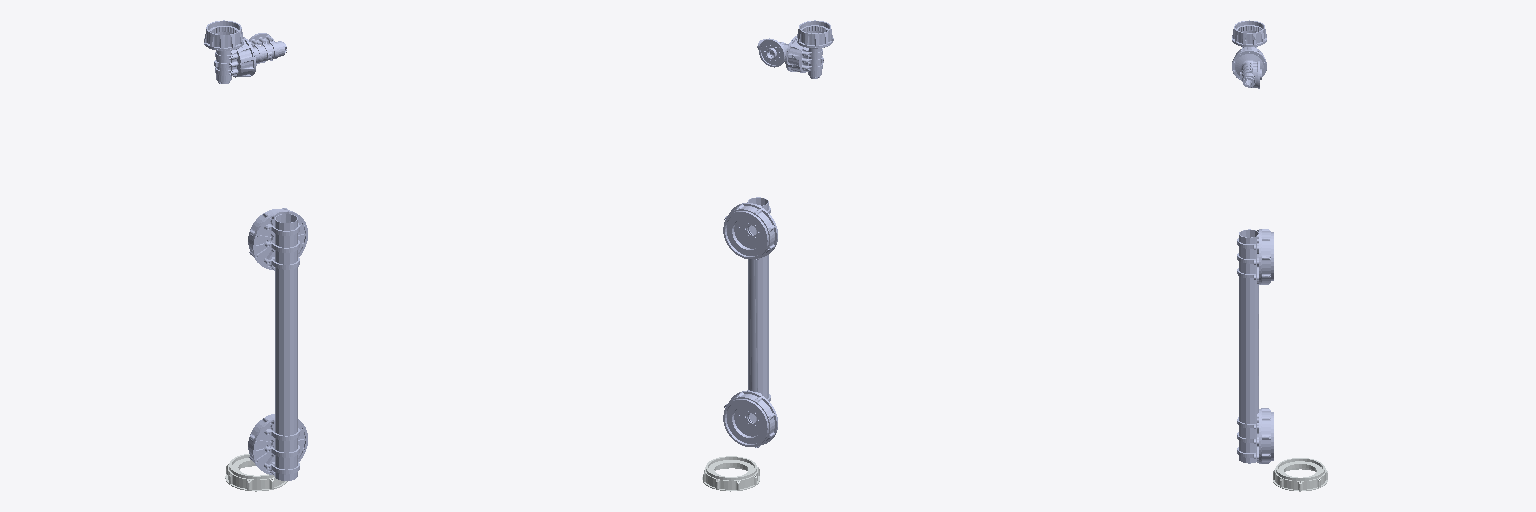
robot.urdf — arm_urdf_attempt_1:
<?xml version="1.0" encoding="utf-8"?>
<!-- This URDF was automatically created by SolidWorks to URDF Exporter! Originally created by [author] ([email redacted]) 
     Commit Version: 1.6.0-4-g7f85cfe  Build Version: 1.6.7995.38578
     For more information, please see http://wiki.ros.org/sw_urdf_exporter -->
<robot
  name="arm_urdf_attempt_1">
  <link
    name="base_link">
    <inertial>
      <origin
        xyz="-2.15105711021124E-16 4.16333634234434E-17 0.0236699430726066"
        rpy="0 0 0" />
      <mass
        value="0.303577466401528" />
      <inertia
        ixx="0.000487283345605958"
        ixy="-4.0604328814282E-18"
        ixz="-2.49902423019563E-19"
        iyy="0.000487283345605958"
        iyz="-4.11872843731475E-19"
        izz="0.000943263997918369" />
    </inertial>
    <visual>
      <origin
        xyz="0 0 0"
        rpy="0 0 0" />
      <geometry>
        <mesh
          filename="package://arm_urdf_attempt_1/meshes/base_link.STL" />
      </geometry>
      <material
        name="">
        <color
          rgba="0.898039215686275 0.917647058823529 0.929411764705882 1" />
      </material>
    </visual>
    <collision>
      <origin
        xyz="0 0 0"
        rpy="0 0 0" />
      <geometry>
        <mesh
          filename="package://arm_urdf_attempt_1/meshes/base_link.STL" />
      </geometry>
    </collision>
  </link>
  <link
    name="shoulder_link">
    <inertial>
      <origin
        xyz="-0.00108589432988627 0.00104453818881597 -0.0115032054388252"
        rpy="0 0 0" />
      <mass
        value="0.578300307697333" />
      <inertia
        ixx="0.000457491664954998"
        ixy="4.40695079130614E-08"
        ixz="-5.24944352494752E-07"
        iyy="0.000466714143740786"
        iyz="-3.9888872616818E-05"
        izz="0.000492278897171974" />
    </inertial>
    <visual>
      <origin
        xyz="0 0 0"
        rpy="0 0 0" />
      <geometry>
        <mesh
          filename="package://arm_urdf_attempt_1/meshes/shoulder_link.STL" />
      </geometry>
      <material
        name="">
        <color
          rgba="0.792156862745098 0.819607843137255 0.933333333333333 1" />
      </material>
    </visual>
    <collision>
      <origin
        xyz="0 0 0"
        rpy="0 0 0" />
      <geometry>
        <mesh
          filename="package://arm_urdf_attempt_1/meshes/shoulder_link.STL" />
      </geometry>
    </collision>
  </link>
  <joint
    name="base-rotation"
    type="continuous">
    <origin
      xyz="0 0 0.1238"
      rpy="1.5708 0 0" />
    <parent
      link="base_link" />
    <child
      link="shoulder_link" />
    <axis
      xyz="0 1 0" />
  </joint>
  <link
    name="upper_arm_link">
    <inertial>
      <origin
        xyz="-0.242503153942016 -5.77669424302318E-07 -0.0253615987772052"
        rpy="0 0 0" />
      <mass
        value="0.514292774377408" />
      <inertia
        ixx="0.000595642413199703"
        ixy="1.22950190154906E-08"
        ixz="-5.13167613690387E-08"
        iyy="0.00505803319818708"
        iyz="-1.22192589471583E-08"
        izz="0.00552655986550431" />
    </inertial>
    <visual>
      <origin
        xyz="0 0 0"
        rpy="0 0 0" />
      <geometry>
        <mesh
          filename="package://arm_urdf_attempt_1/meshes/upper_arm_link.STL" />
      </geometry>
      <material
        name="">
        <color
          rgba="0.792156862745098 0.819607843137255 0.933333333333333 1" />
      </material>
    </visual>
    <collision>
      <origin
        xyz="0 0 0"
        rpy="0 0 0" />
      <geometry>
        <mesh
          filename="package://arm_urdf_attempt_1/meshes/upper_arm_link.STL" />
      </geometry>
    </collision>
  </link>
  <joint
    name="shoulder"
    type="continuous">
    <origin
      xyz="0 0.485 0.1258"
      rpy="0 0 1.5708" />
    <parent
      link="shoulder_link" />
    <child
      link="upper_arm_link" />
    <axis
      xyz="0 0 1" />
  </joint>
  <link
    name="fore_arm_link">
    <inertial>
      <origin
        xyz="-0.280503991164541 0.0290165992543888 -0.0307353704762849"
        rpy="0 0 0" />
      <mass
        value="0.878694547843131" />
      <inertia
        ixx="0.00111677818316444"
        ixy="-3.95763823988894E-08"
        ixz="3.11645354052697E-06"
        iyy="0.00322319211600831"
        iyz="0.000293141391325471"
        izz="0.00350482047067742" />
    </inertial>
    <visual>
      <origin
        xyz="0 0 0"
        rpy="0 0 0" />
      <geometry>
        <mesh
          filename="package://arm_urdf_attempt_1/meshes/fore_arm_link.STL" />
      </geometry>
      <material
        name="">
        <color
          rgba="0.792156862745098 0.819607843137255 0.933333333333333 1" />
      </material>
    </visual>
    <collision>
      <origin
        xyz="0 0 0"
        rpy="0 0 0" />
      <geometry>
        <mesh
          filename="package://arm_urdf_attempt_1/meshes/fore_arm_link.STL" />
      </geometry>
    </collision>
  </link>
  <joint
    name="elbow"
    type="continuous">
    <origin
      xyz="0.468 0.05103 -0.1004"
      rpy="-0.0069564 0 0" />
    <parent
      link="upper_arm_link" />
    <child
      link="fore_arm_link" />
    <axis
      xyz="0 0.0069564 -0.99998" />
  </joint>
  <link
    name="wrist_a_link">
    <inertial>
      <origin
        xyz="4.54063678101413E-06 0.00400994549583587 0.0309332485687411"
        rpy="0 0 0" />
      <mass
        value="0.13211366619723" />
      <inertia
        ixx="9.58431968283196E-05"
        ixy="7.56409048134941E-08"
        ixz="-4.74004957401875E-10"
        iyy="0.000105476440501887"
        iyz="2.20006728961237E-08"
        izz="9.54267891151975E-05" />
    </inertial>
    <visual>
      <origin
        xyz="0 0 0"
        rpy="0 0 0" />
      <geometry>
        <mesh
          filename="package://arm_urdf_attempt_1/meshes/wrist_a_link.STL" />
      </geometry>
      <material
        name="">
        <color
          rgba="0.792156862745098 0.819607843137255 0.933333333333333 1" />
      </material>
    </visual>
    <collision>
      <origin
        xyz="0 0 0"
        rpy="0 0 0" />
      <geometry>
        <mesh
          filename="package://arm_urdf_attempt_1/meshes/wrist_a_link.STL" />
      </geometry>
    </collision>
  </link>
  <joint
    name="j4"
    type="continuous">
    <origin
      xyz="0 0 0.10007"
      rpy="-1.5708 0 0" />
    <parent
      link="fore_arm_link" />
    <child
      link="wrist_a_link" />
    <axis
      xyz="0 1 0" />
  </joint>
  <link
    name="wrist_b_link">
    <inertial>
      <origin
        xyz="4.54060680697352E-06 0.0040099453520431 0.0309332434107732"
        rpy="0 0 0" />
      <mass
        value="0.132113663462452" />
      <inertia
        ixx="9.58431913908768E-05"
        ixy="7.56411401322342E-08"
        ixz="-4.73200171281675E-10"
        iyy="0.000105476434923144"
        iyz="2.20007118533406E-08"
        izz="9.54267869746594E-05" />
    </inertial>
    <visual>
      <origin
        xyz="0 0 0"
        rpy="0 0 0" />
      <geometry>
        <mesh
          filename="package://arm_urdf_attempt_1/meshes/wrist_b_link.STL" />
      </geometry>
      <material
        name="">
        <color
          rgba="0.792156862745098 0.819607843137255 0.933333333333333 1" />
      </material>
    </visual>
    <collision>
      <origin
        xyz="0 0 0"
        rpy="0 0 0" />
      <geometry>
        <mesh
          filename="package://arm_urdf_attempt_1/meshes/wrist_b_link.STL" />
      </geometry>
    </collision>
  </link>
  <joint
    name="j5"
    type="continuous">
    <origin
      xyz="0 0 0.10225"
      rpy="-1.5708 0 -1.5708" />
    <parent
      link="wrist_a_link" />
    <child
      link="wrist_b_link" />
    <axis
      xyz="0 1 0" />
  </joint>
  <link
    name="end_effector_link">
    <inertial>
      <origin
        xyz="0.0113412558418731 -0.0197007819555739 0.0633724532226339"
        rpy="0 0 0" />
      <mass
        value="0.386619544800973" />
      <inertia
        ixx="0.000279649493302485"
        ixy="-3.2978765110518E-07"
        ixz="2.91527532510257E-07"
        iyy="0.000570040658440387"
        iyz="5.22687392642322E-06"
        izz="0.000424494038173486" />
    </inertial>
    <visual>
      <origin
        xyz="0 0 0"
        rpy="0 0 0" />
      <geometry>
        <mesh
          filename="package://arm_urdf_attempt_1/meshes/end_effector_link.STL" />
      </geometry>
      <material
        name="">
        <color
          rgba="0.792156862745098 0.819607843137255 0.933333333333333 1" />
      </material>
    </visual>
    <collision>
      <origin
        xyz="0 0 0"
        rpy="0 0 0" />
      <geometry>
        <mesh
          filename="package://arm_urdf_attempt_1/meshes/end_effector_link.STL" />
      </geometry>
    </collision>
  </link>
  <joint
    name="j6"
    type="continuous">
    <origin
      xyz="0 0 0.10125"
      rpy="0 0 0" />
    <parent
      link="wrist_b_link" />
    <child
      link="end_effector_link" />
    <axis
      xyz="0 0 -1" />
  </joint>
</robot>

--- Facts derived from the render (not from the file) ---
Views: 3 orthographic renders of the robot side by side, from view 1: azimuth 30°, elevation 25°; view 2: azimuth 150°, elevation 25°; view 3: azimuth 270°, elevation 25°.
Robot: arm_urdf_attempt_1 — 7 links, 6 joints (6 continuous); root link base_link; default pose: every joint at zero.
Links seen in each view (by area): view 1: upper_arm_link, wrist_b_link, wrist_a_link, base_link; view 2: upper_arm_link, wrist_b_link, base_link, wrist_a_link; view 3: upper_arm_link, base_link, wrist_a_link, wrist_b_link.
Boxes of the visible links, x1,y1,x2,y2 form: upper_arm_link: [248, 208, 307, 480]; wrist_b_link: [204, 20, 243, 83]; wrist_a_link: [233, 33, 286, 77]; base_link: [225, 454, 287, 491]; upper_arm_link: [723, 197, 777, 447]; wrist_b_link: [797, 20, 833, 78]; base_link: [702, 456, 759, 491]; wrist_a_link: [757, 36, 805, 72]; upper_arm_link: [1237, 229, 1273, 463]; base_link: [1273, 458, 1327, 491]; wrist_a_link: [1232, 47, 1266, 88]; wrist_b_link: [1232, 20, 1266, 47].
Bounding box of the posed robot: 0.2652 × 0.2363 × 1.15 m (x, y, z).
Meshes: 7 distinct files referenced, 4 mesh visuals loaded (4 binary STL); not drawn: 3 (reference not matched to a file when rendering).